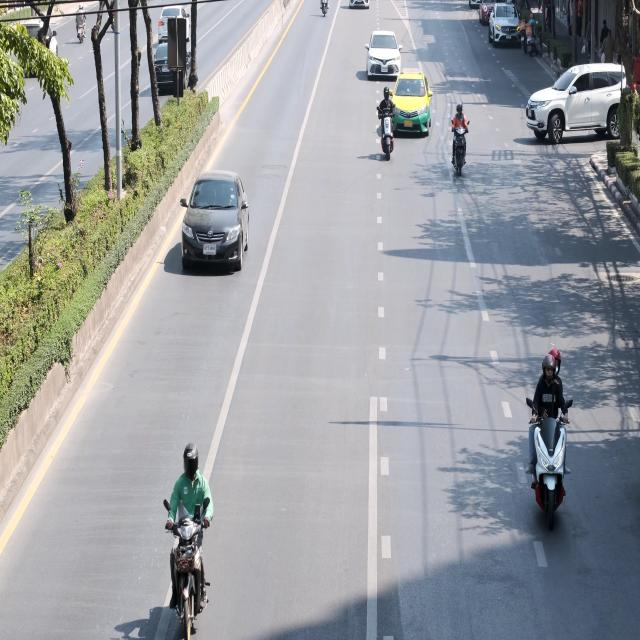cars: (520, 43, 640, 179), (179, 163, 256, 289), (383, 72, 438, 153), (147, 36, 198, 116), (361, 17, 402, 88), (155, 2, 204, 61), (488, 2, 526, 51), (481, 0, 517, 30)
motorcycle: (149, 421, 228, 640), (524, 326, 583, 551), (444, 90, 476, 202), (374, 83, 410, 171), (526, 19, 545, 77), (516, 10, 536, 49)
